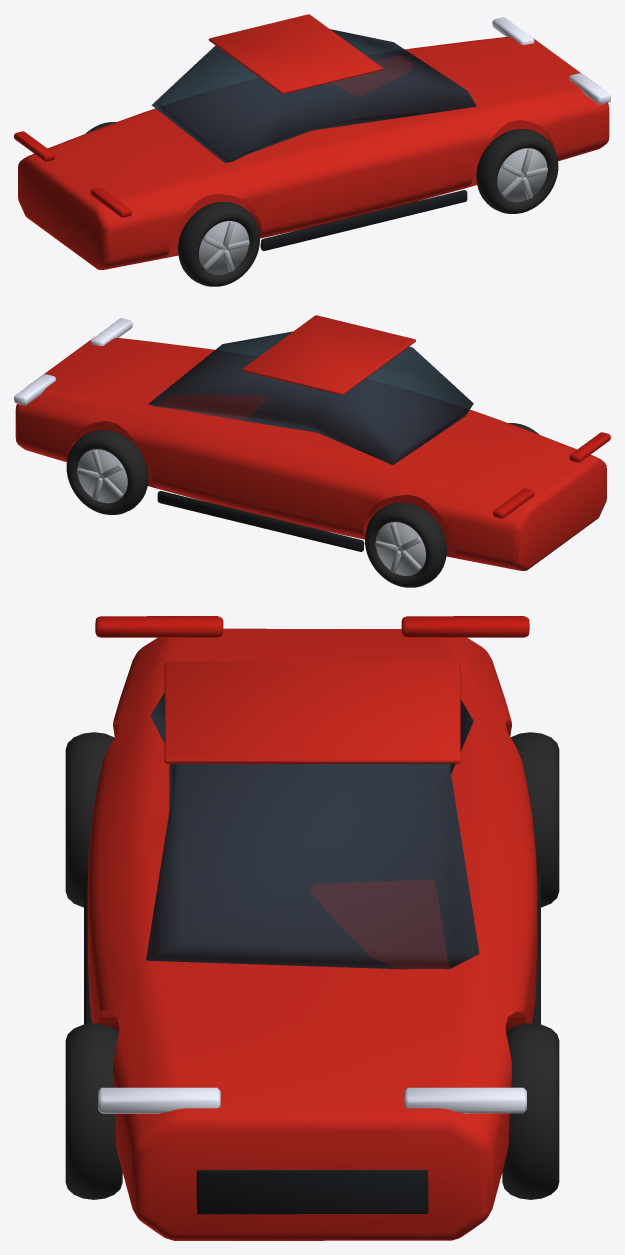
Rendered from vehicle-lod1.glb.
3 views of the same model, one above another, from view 1: azimuth 30°, elevation 25°; view 2: azimuth 150°, elevation 25°; view 3: azimuth 270°, elevation 25° (orthographic). The views are drawn at different scales.
Visible parts, largest first — view 1: chassis_LOD1, cabin_glass_LOD1, roof_LOD1, wheel_front_left_LOD1, wheel_rear_left_LOD1, side_sill_-1_LOD1, wheel_front_left_rim_LOD1, wheel_rear_left_rim_LOD1, front_lamp_-1_LOD1, front_lamp_1_LOD1, rear_lamp_-1_LOD1, rear_lamp_1_LOD1; view 2: chassis_LOD1, cabin_glass_LOD1, roof_LOD1, wheel_front_right_LOD1, wheel_rear_right_LOD1, side_sill_1_LOD1, wheel_front_right_rim_LOD1, wheel_rear_right_rim_LOD1, front_lamp_1_LOD1, front_lamp_-1_LOD1, rear_lamp_-1_LOD1, rear_lamp_1_LOD1; view 3: chassis_LOD1, cabin_glass_LOD1, roof_LOD1, front_grille_LOD1, wheel_front_left_LOD1, wheel_front_right_LOD1, wheel_rear_left_LOD1, wheel_rear_right_LOD1, front_lamp_1_LOD1, front_lamp_-1_LOD1, rear_lamp_1_LOD1, rear_lamp_-1_LOD1.
Part boxes in pixels (x1=…): chassis_LOD1: x1=18, y1=37, x2=609, y2=269; cabin_glass_LOD1: x1=151, y1=29, x2=476, y2=162; roof_LOD1: x1=208, y1=14, x2=382, y2=94; wheel_front_left_LOD1: x1=476, y1=129, x2=558, y2=213; wheel_rear_left_LOD1: x1=178, y1=202, x2=259, y2=286; side_sill_-1_LOD1: x1=260, y1=190, x2=467, y2=250; wheel_front_left_rim_LOD1: x1=497, y1=148, x2=547, y2=202; wheel_rear_left_rim_LOD1: x1=199, y1=221, x2=248, y2=274; front_lamp_-1_LOD1: x1=569, y1=73, x2=610, y2=104; front_lamp_1_LOD1: x1=492, y1=17, x2=534, y2=44; rear_lamp_-1_LOD1: x1=90, y1=187, x2=131, y2=217; rear_lamp_1_LOD1: x1=14, y1=131, x2=55, y2=161; chassis_LOD1: x1=15, y1=337, x2=606, y2=570; cabin_glass_LOD1: x1=148, y1=331, x2=473, y2=464; roof_LOD1: x1=242, y1=315, x2=415, y2=395; wheel_front_right_LOD1: x1=66, y1=430, x2=148, y2=514; wheel_rear_right_LOD1: x1=365, y1=503, x2=446, y2=587; side_sill_1_LOD1: x1=157, y1=491, x2=364, y2=551; wheel_front_right_rim_LOD1: x1=77, y1=449, x2=127, y2=503; wheel_rear_right_rim_LOD1: x1=376, y1=522, x2=425, y2=575; front_lamp_1_LOD1: x1=14, y1=374, x2=55, y2=405; front_lamp_-1_LOD1: x1=90, y1=318, x2=132, y2=345; rear_lamp_-1_LOD1: x1=569, y1=432, x2=610, y2=462; rear_lamp_1_LOD1: x1=493, y1=488, x2=534, y2=518; chassis_LOD1: x1=87, y1=628, x2=537, y2=1240; cabin_glass_LOD1: x1=146, y1=692, x2=479, y2=969; roof_LOD1: x1=164, y1=661, x2=460, y2=763; front_grille_LOD1: x1=196, y1=1170, x2=428, y2=1214; wheel_front_left_LOD1: x1=65, y1=1023, x2=122, y2=1199; wheel_front_right_LOD1: x1=502, y1=1023, x2=559, y2=1199; wheel_rear_left_LOD1: x1=65, y1=732, x2=114, y2=907; wheel_rear_right_LOD1: x1=510, y1=732, x2=559, y2=907; front_lamp_1_LOD1: x1=404, y1=1087, x2=526, y2=1113; front_lamp_-1_LOD1: x1=98, y1=1087, x2=220, y2=1113; rear_lamp_1_LOD1: x1=401, y1=616, x2=529, y2=637; rear_lamp_-1_LOD1: x1=95, y1=616, x2=223, y2=637.
Size of the model in its own units: 4.51 by 1.35 by 1.9.
